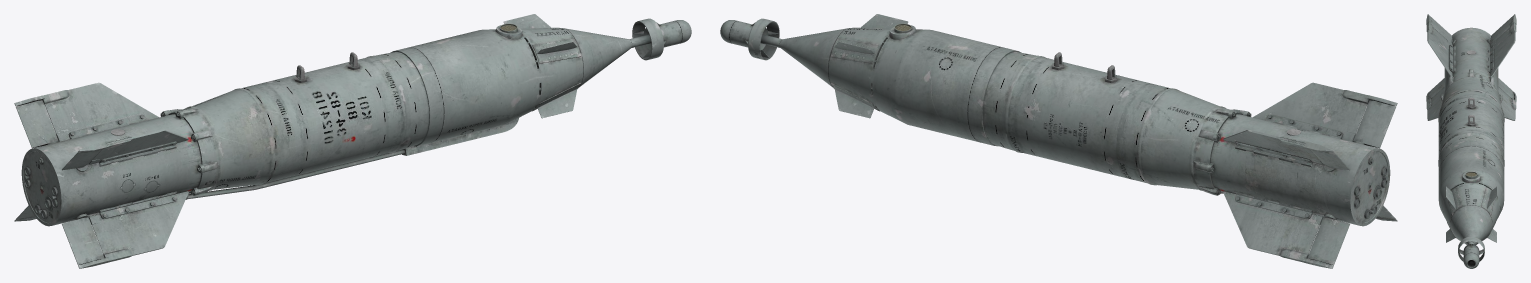
File: kab500l.glb
3 renders of one model, left to right at view 1: azimuth 30°, elevation 25°; view 2: azimuth 150°, elevation 25°; view 3: azimuth 270°, elevation 25°, orthographic. The views are drawn at different scales.
Parts seen in each view (by area): view 1: Object_3; view 2: Object_3; view 3: Object_3.
Boxes of the visible parts, x1,y1,x2,y2 form: Object_3: (14, 14, 691, 268); Object_3: (720, 14, 1397, 268); Object_3: (1426, 14, 1516, 268).
Size of the model in its own units: 3.07 by 0.5502 by 0.5502.
2 materials, 1 textured.
